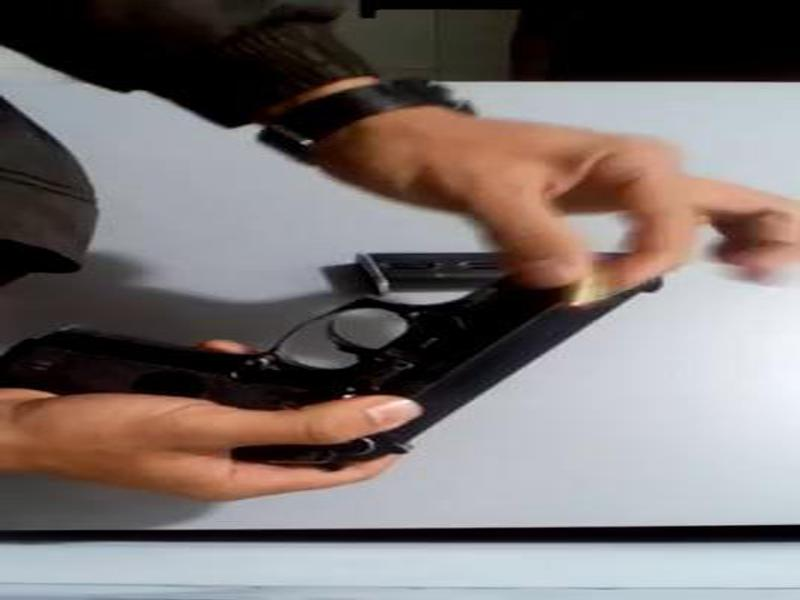Pistola: (1, 207, 697, 473)
